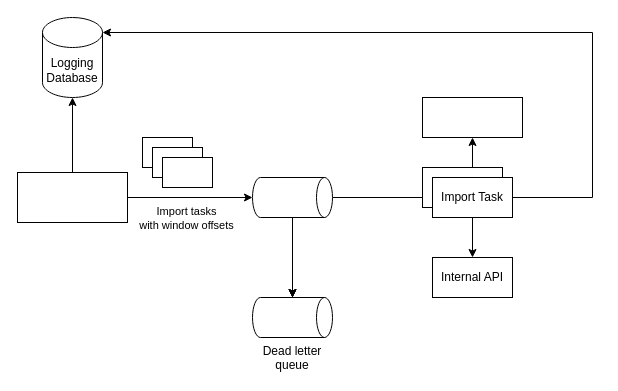
This 618x391 diagram has some shape labels left out. Each missing label, with the centre of its shape:
Mailchimp API: point 472,117
Manual run or period task: point 72,197
Message Queue: point 292,197
